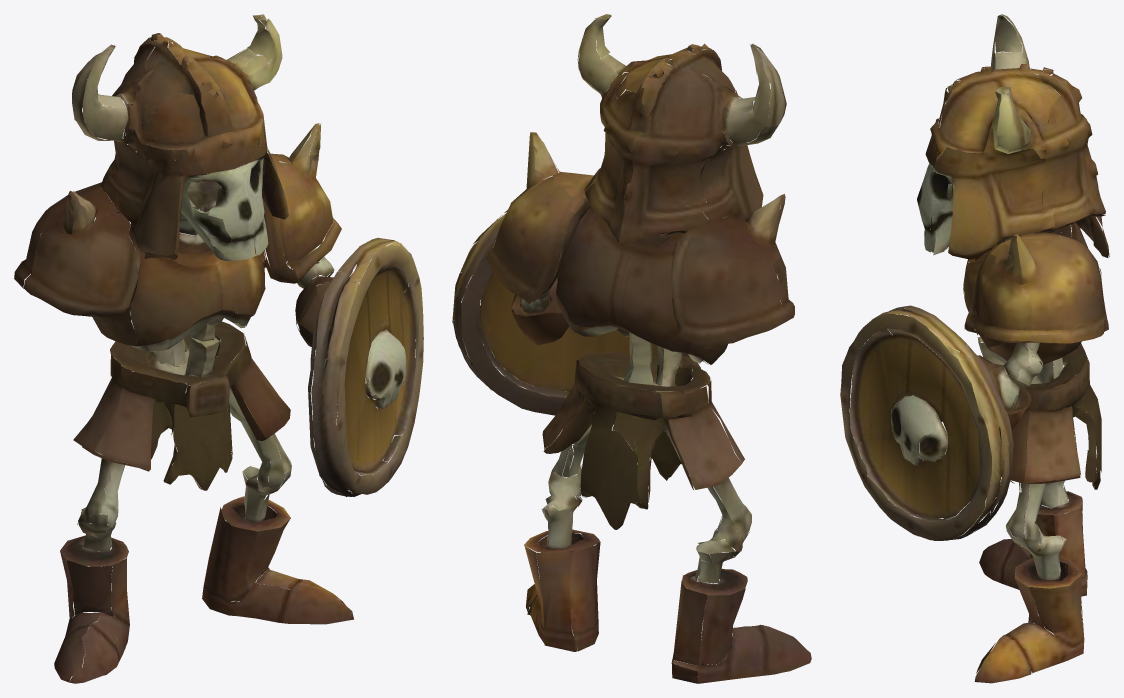
Rendered from skeleton.glb.
3 renders of one model, left to right at view 1: azimuth 30°, elevation 25°; view 2: azimuth 150°, elevation 25°; view 3: azimuth 270°, elevation 25°, orthographic. The views are drawn at different scales.
Parts seen in each view (by area): view 1: geometry_0; view 2: geometry_0; view 3: geometry_0.
Boxes of the visible parts, x1,y1,x2,y2 form: geometry_0: [14, 14, 423, 683]; geometry_0: [452, 14, 811, 683]; geometry_0: [840, 14, 1109, 683].
Bounding box in the file's own units: 0.623 × 1 × 0.4308.
1 material, 1 textured.
